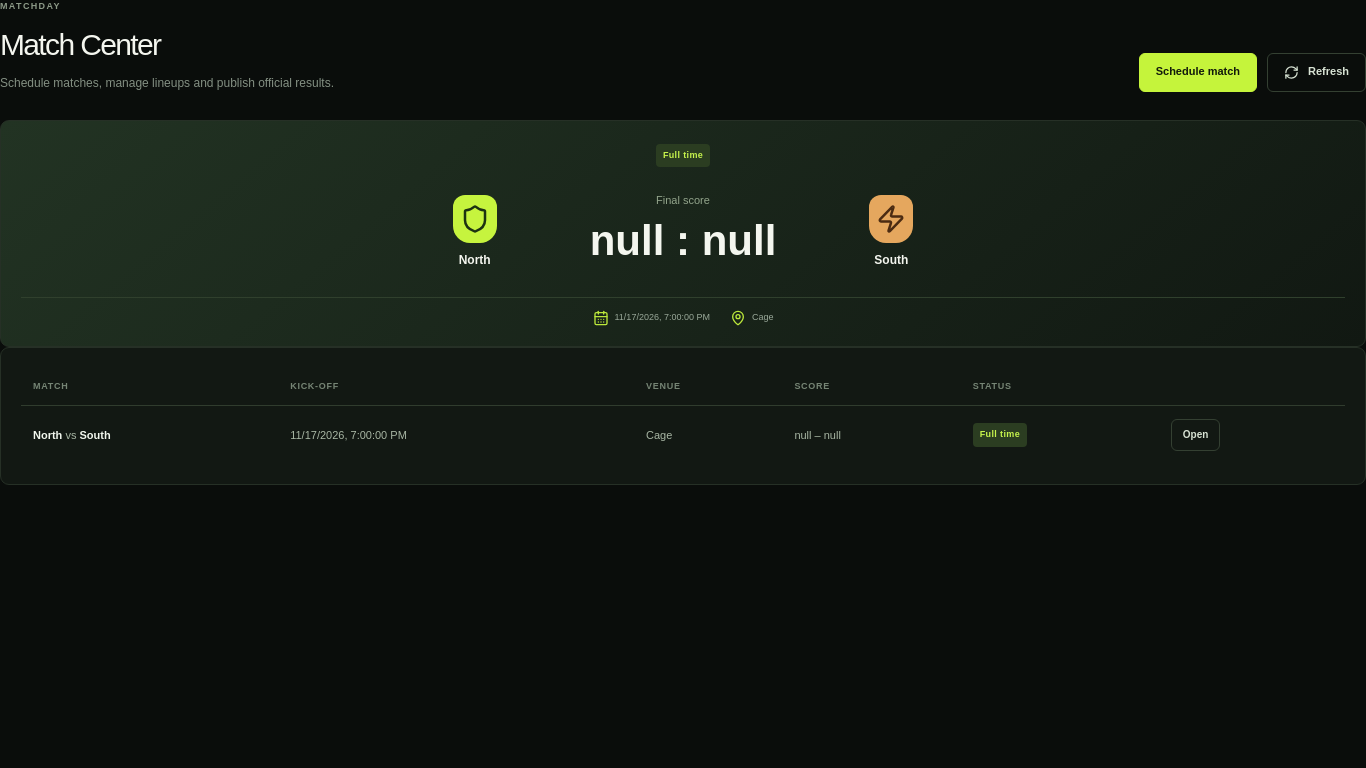
Scenario: Live fixtures and scheduling › shows the finalized official lineup when the latest draft has no saved lineup
Click the button "Open".
click(1196, 435)  # box [1171,419,1220,451]
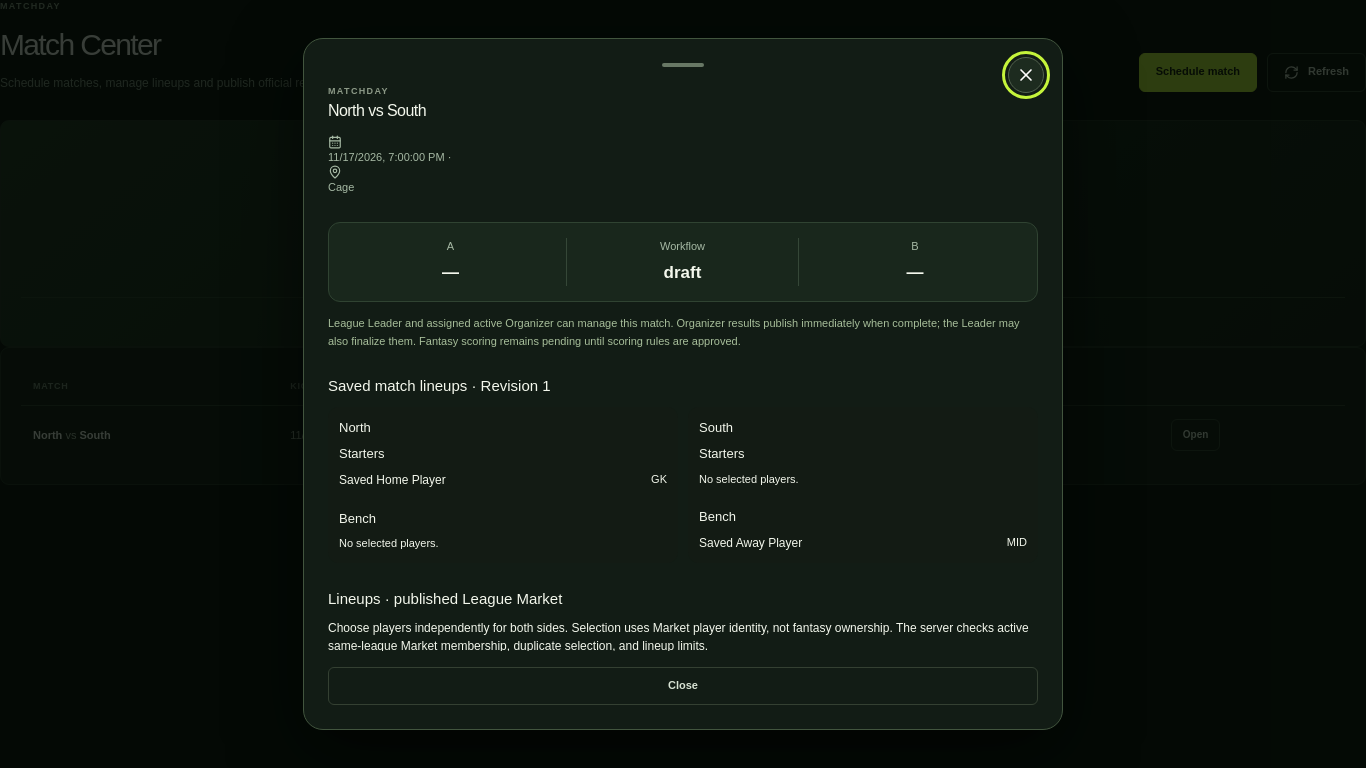
Expected: the text "Saved Home Player" is shown, [339,471,446,489]
Expected: the text "Saved Away Player" is shown, [699,534,802,552]
